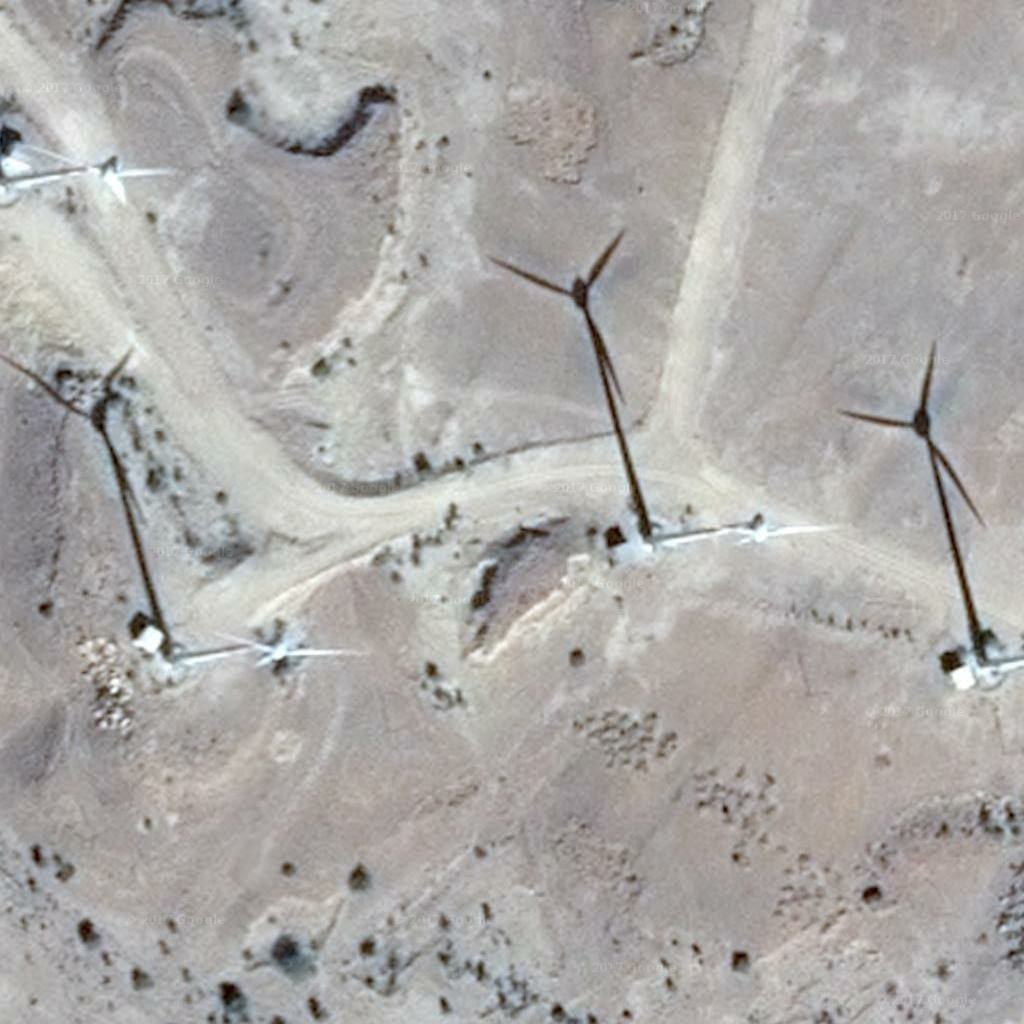Windmill: (496, 242, 667, 532)
